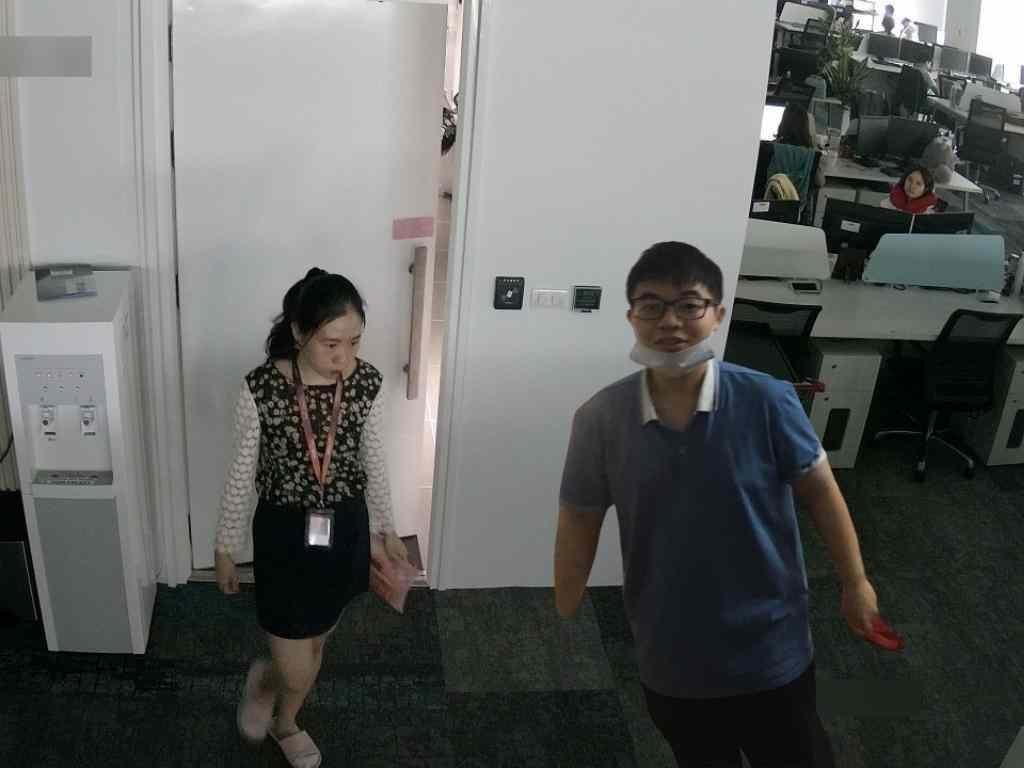no_apron: (821, 566, 907, 650), (176, 544, 270, 612)
no_gloves: (244, 263, 414, 393), (591, 231, 762, 321)
no_hairnet: (621, 276, 720, 378), (295, 298, 370, 381)
